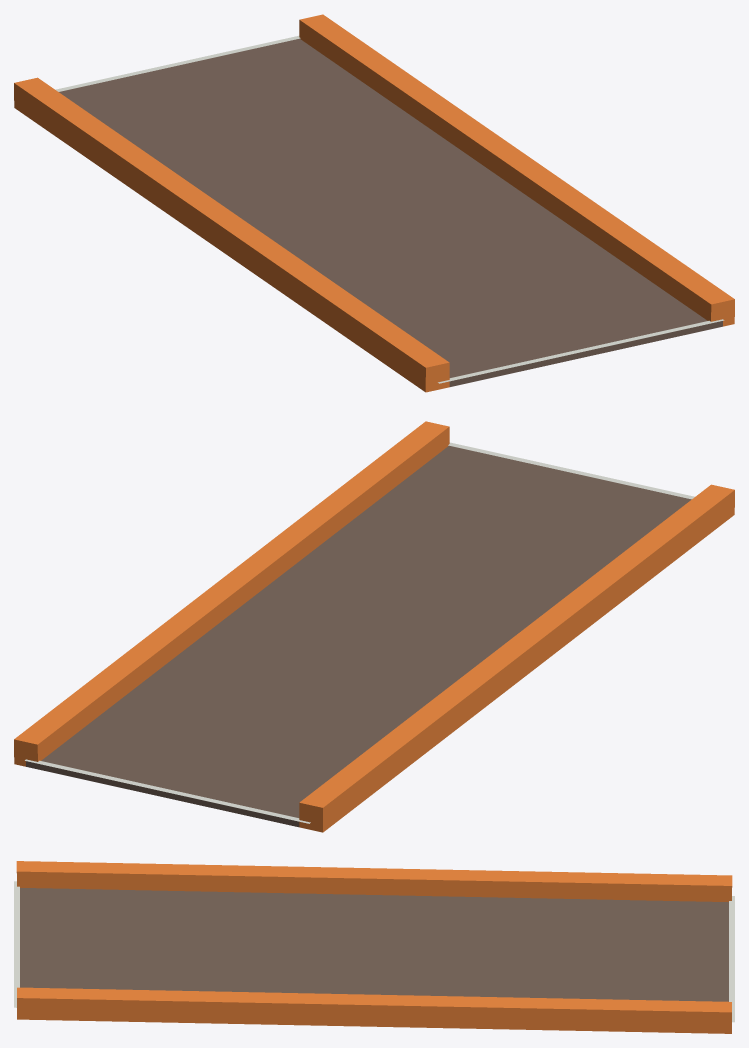
Rendered from SM_MP_Film_A_0_0.fbx.
3 renders of one model, top to bottom at view 1: azimuth 30°, elevation 25°; view 2: azimuth 150°, elevation 25°; view 3: azimuth 270°, elevation 25°, orthographic. The views are drawn at different scales.
Parts seen in each view (by area): view 1: SM_MP_Film_A_0_0; view 2: SM_MP_Film_A_0_0; view 3: SM_MP_Film_A_0_0.
Part boxes in pixels (x1,y1,x2,y2): SM_MP_Film_A_0_0: [14, 14, 734, 392]; SM_MP_Film_A_0_0: [14, 421, 734, 832]; SM_MP_Film_A_0_0: [14, 861, 734, 1033].
Size of what is drawn, in the model's own units: 260 by 605 by 38.91.
